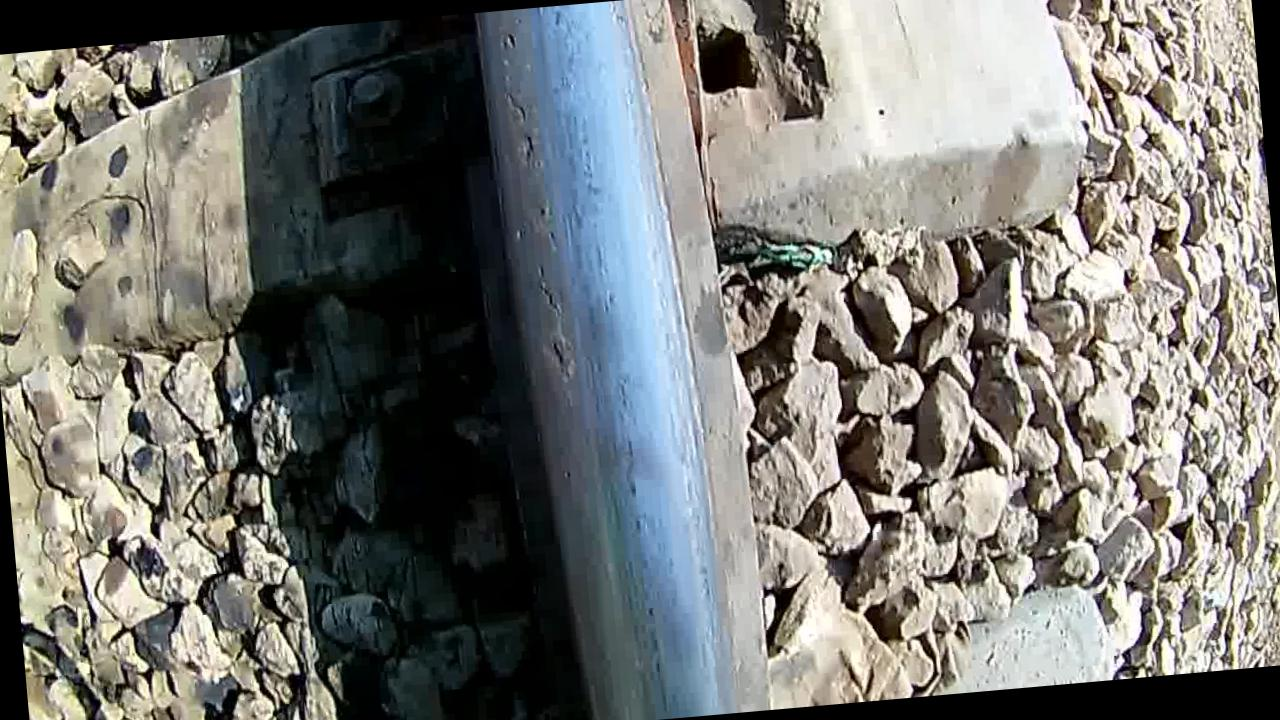crack: (474, 0, 692, 720)
